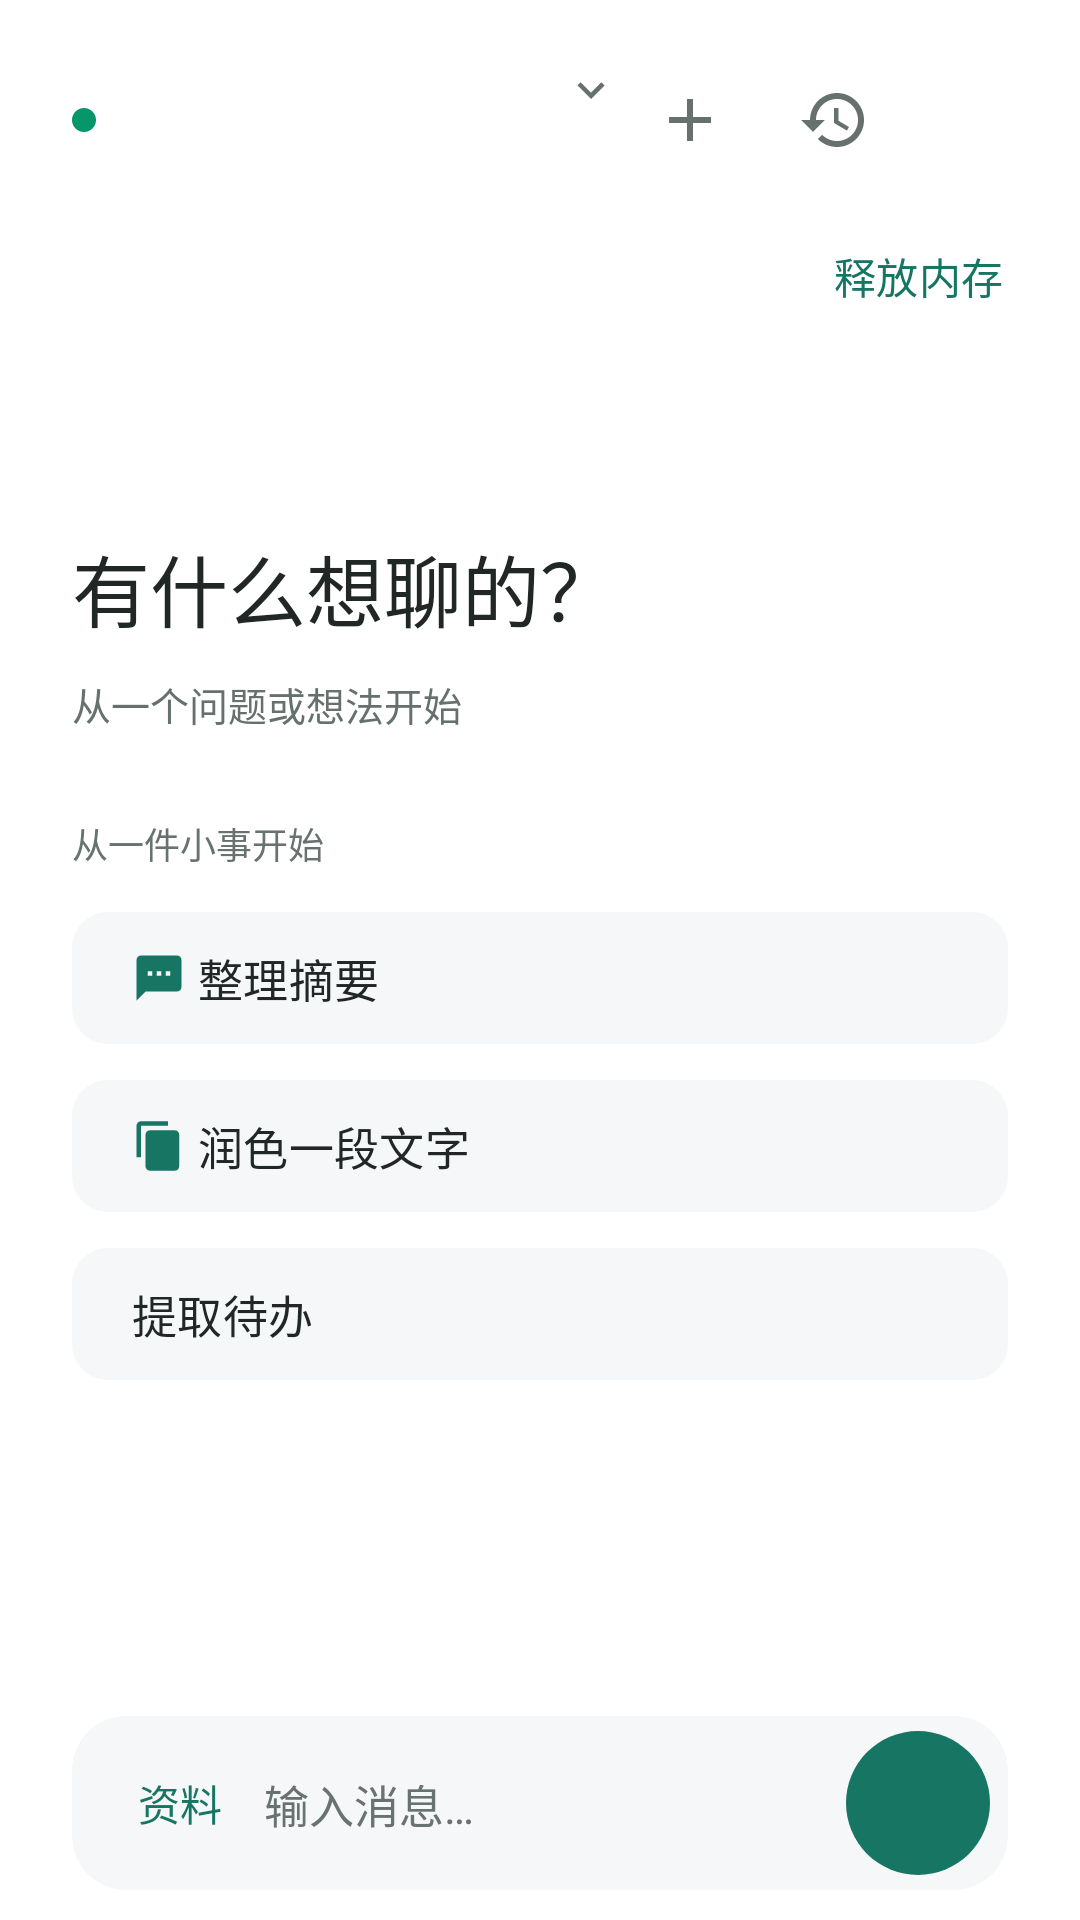

Icon bounding boxes for this 1080 × 1920 phone screenshot, format bbox=[x1, y1, x2, y2]:
会话历史: bbox=[801, 93, 864, 147]
新建会话: bbox=[669, 99, 711, 141]
